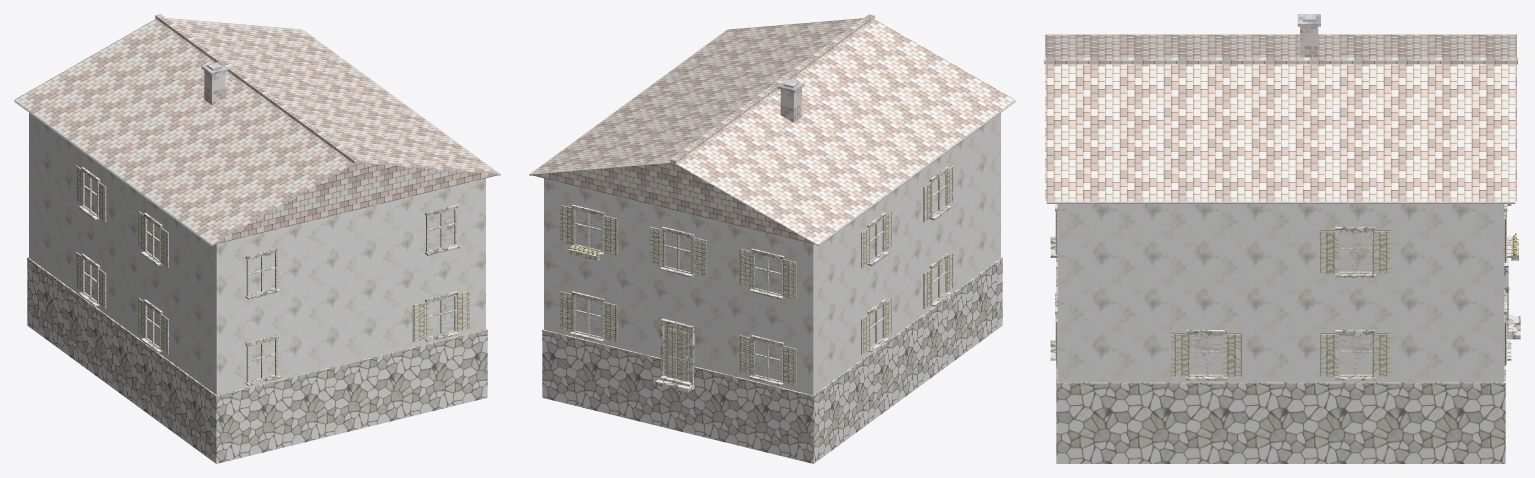
The picture shows the model from 3 angles, left to right: view 1: azimuth 30°, elevation 25°; view 2: azimuth 150°, elevation 25°; view 3: azimuth 270°, elevation 25°; orthographic projection. The views are drawn at different scales.
Parts seen in each view (by area): view 1: b962648345; view 2: b962648345; view 3: b962648345.
Part boxes in pixels (left/top/right/bottom): b962648345: left=14, top=14, right=500, bottom=463; b962648345: left=529, top=14, right=1015, bottom=463; b962648345: left=1044, top=14, right=1520, bottom=463.
Size of the model in its own units: 10.86 by 10.55 by 13.
Materials: 24 (21 with a texture image).
